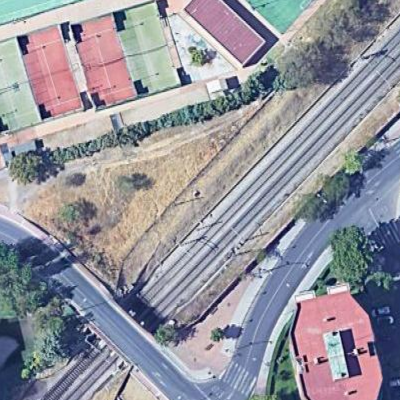tree: (25, 305, 82, 377), (325, 225, 381, 289), (1, 243, 43, 315), (274, 38, 330, 90), (290, 184, 334, 226), (9, 146, 50, 185), (340, 145, 370, 180), (153, 319, 180, 349), (210, 325, 228, 346)
